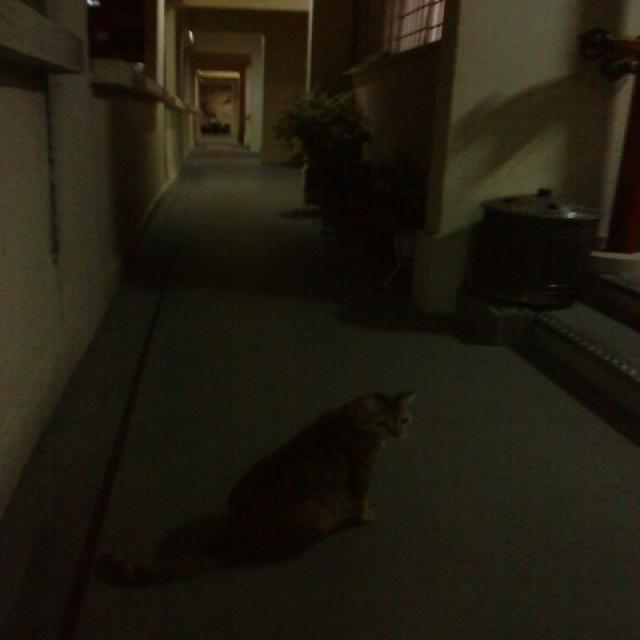Cat: (89, 352, 475, 640)
